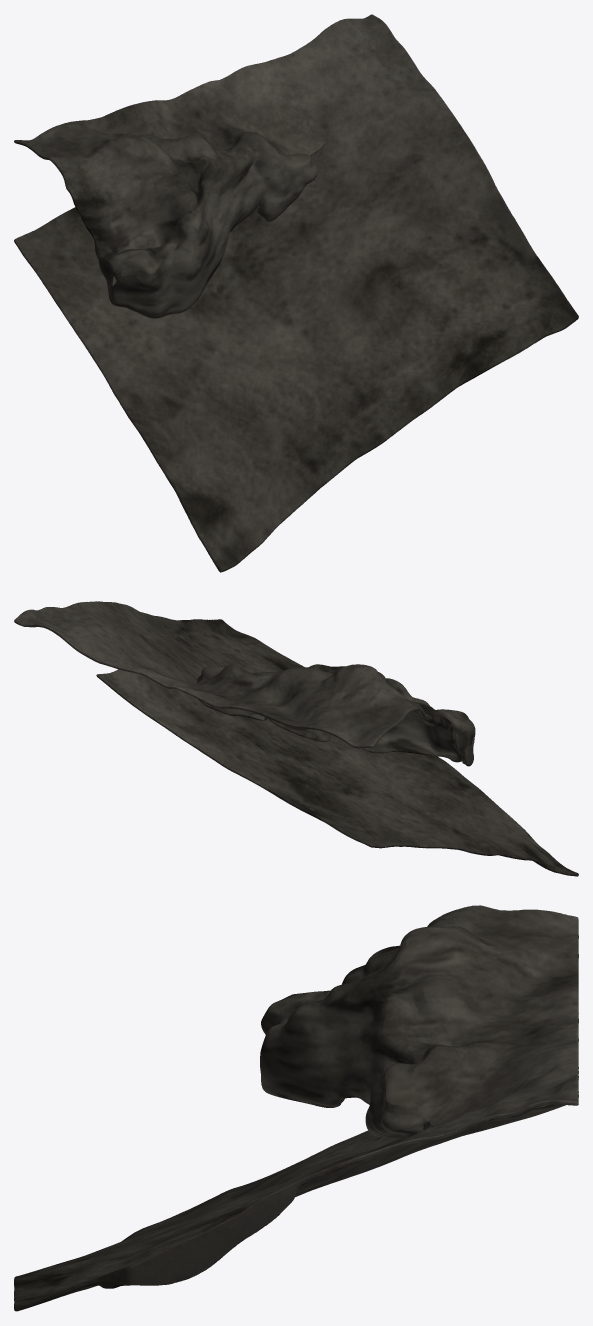
3 renders of one model, top to bottom at view 1: azimuth 30°, elevation 25°; view 2: azimuth 150°, elevation 25°; view 3: azimuth 270°, elevation 25°, orthographic. The views are drawn at different scales.
Parts seen in each view (by area): view 1: world; view 2: world; view 3: world.
Boxes of the visible parts, <box> form: world: <box>14,14,578,572</box>; world: <box>14,601,578,876</box>; world: <box>14,905,578,1311</box>.
Bounding box in the file's own units: 5000 × 4284 × 4997.
Materials: 1 (1 with a texture image).
